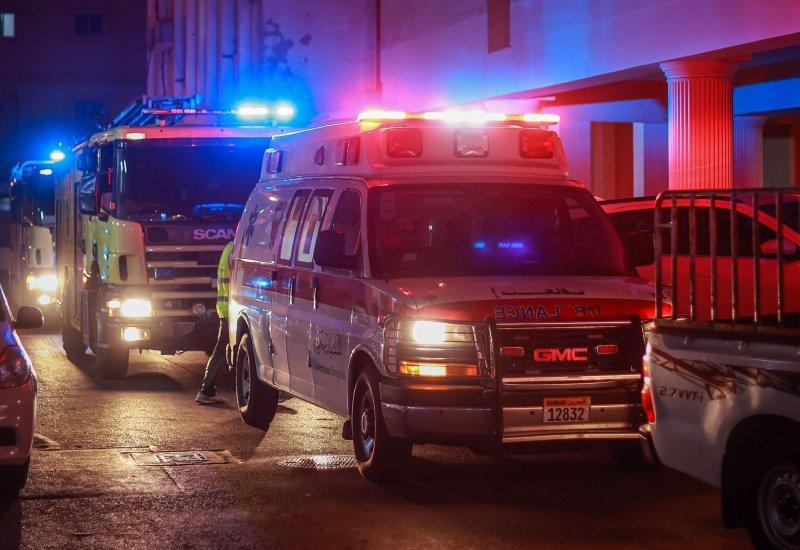ambulance_on: (226, 102, 681, 480)
firetruck_on: (48, 96, 295, 374)
